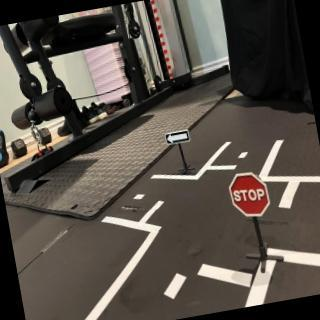sign_oneway_left: (164, 128, 193, 147)
sign_stop: (229, 172, 272, 221)
